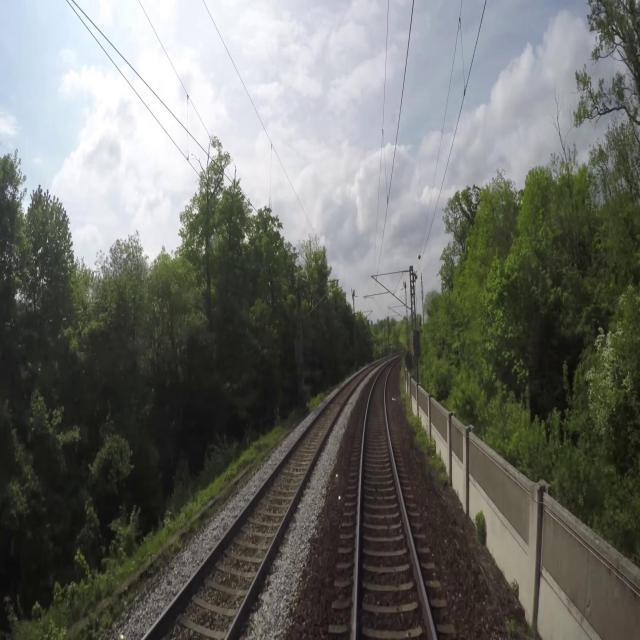rail-track: (148, 377, 358, 639), (358, 367, 433, 639)
